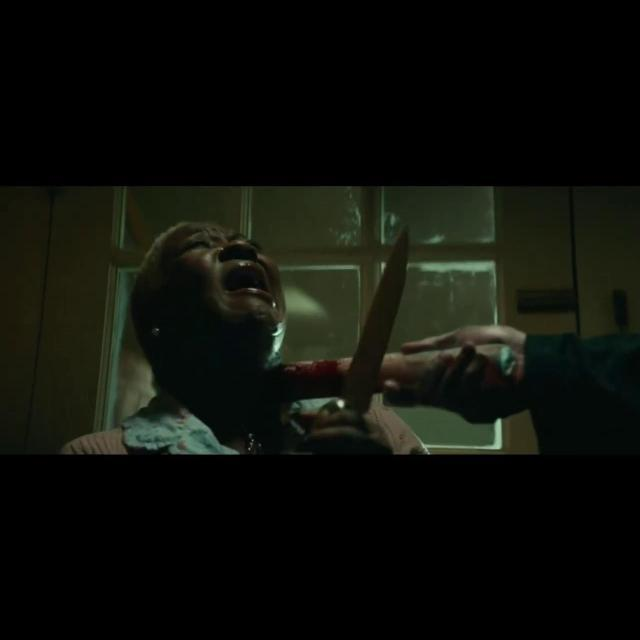blood: (250, 360, 346, 428)
